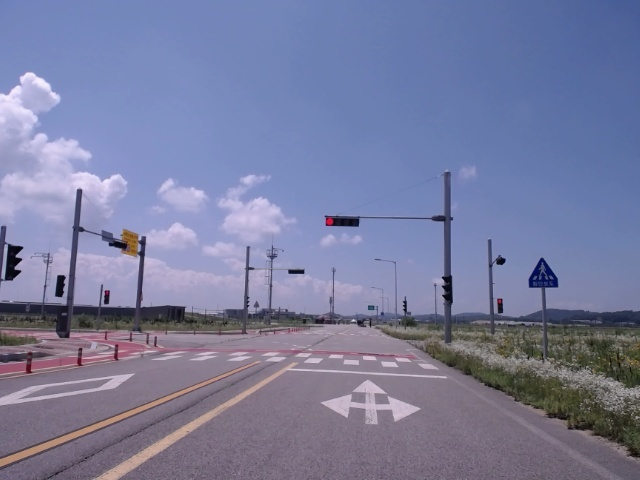red_4: (326, 217, 359, 227)
